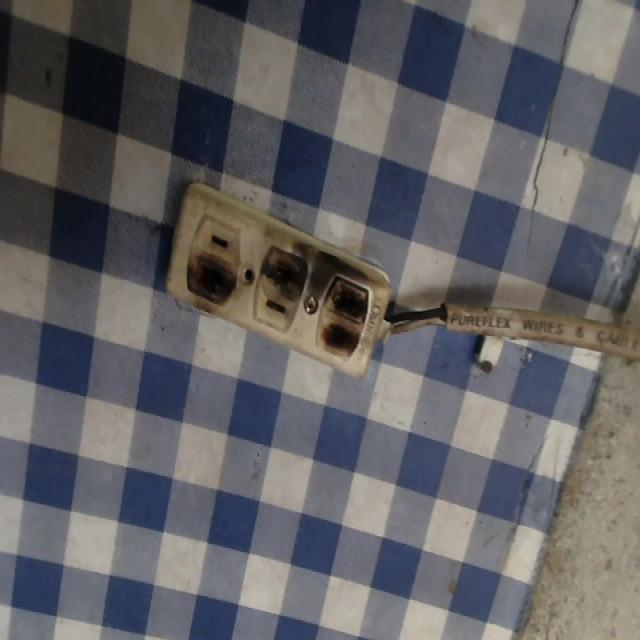-: (318, 264, 376, 367), (175, 256, 241, 317), (257, 232, 306, 303)
